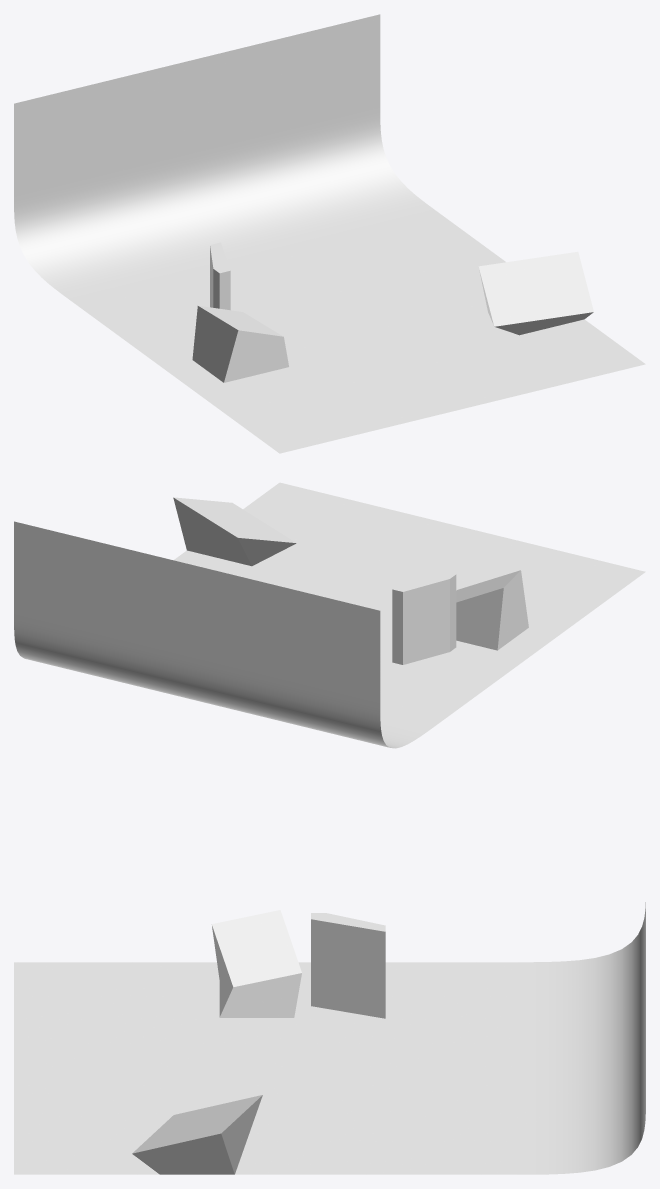
3 renders of one model, top to bottom at view 1: azimuth 30°, elevation 25°; view 2: azimuth 150°, elevation 25°; view 3: azimuth 270°, elevation 25°, orthographic. The views are drawn at different scales.
Visible parts, largest first — view 1: ground; view 2: ground; view 3: ground.
Part boxes in pixels (left/top/right/bottom): ground: left=14, top=14, right=645, bottom=453; ground: left=14, top=482, right=645, bottom=748; ground: left=14, top=902, right=645, bottom=1174.
Bounding box in the file's own units: 17.82 × 6.87 × 21.26.
Materials: 1 (1 with a texture image).
